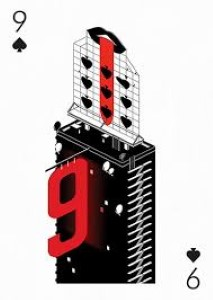NineOfSpades: (7, 5, 206, 291)
